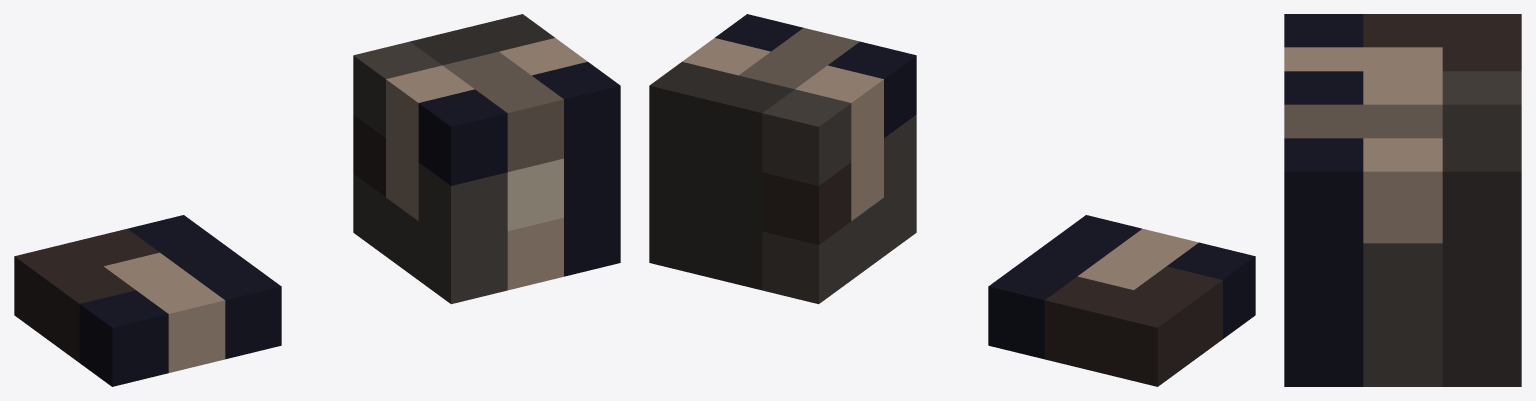
File: CMU3DWornAU14BeltHolsterPistolUPPFullSuitstorage.glb
3 views of the same model, side by side, from view 1: azimuth 30°, elevation 25°; view 2: azimuth 150°, elevation 25°; view 3: azimuth 270°, elevation 25° (orthographic). The views are drawn at different scales.
Visible parts, largest first — view 1: source volume 16, source volume 6, source volume 5, source volume 2, source volume 1, source volume 8, source volume 3, source volume 14, source volume 9, source volume 7, source volume 11, source volume 15 (+5 smaller); view 2: source volume 15, source volume 2, source volume 6, source volume 5, source volume 11, source volume 9, source volume 10, source volume 4, source volume 1, source volume 8, source volume 14, source volume 3 (+3 smaller); view 3: source volume 15, source volume 16, source volume 17, source volume 18, source volume 14, source volume 2, source volume 3, source volume 8, source volume 9, source volume 11, source volume 1, source volume 4.
Boxes of the visible parts, left/top/right/bottom form: source volume 16: left=532, top=62, right=620, bottom=276; source volume 6: left=353, top=174, right=507, bottom=304; source volume 5: left=128, top=215, right=281, bottom=359; source volume 2: left=14, top=242, right=135, bottom=362; source volume 1: left=79, top=290, right=168, bottom=386; source volume 8: left=418, top=89, right=507, bottom=185; source volume 3: left=104, top=252, right=225, bottom=372; source volume 14: left=442, top=51, right=563, bottom=171; source volume 9: left=386, top=65, right=474, bottom=220; source volume 7: left=418, top=162, right=507, bottom=244; source volume 11: left=353, top=41, right=441, bottom=137; source volume 15: left=410, top=14, right=554, bottom=65; source volume 15: left=649, top=62, right=794, bottom=290; source volume 2: left=1101, top=266, right=1222, bottom=386; source volume 6: left=762, top=174, right=916, bottom=304; source volume 5: left=988, top=215, right=1141, bottom=359; source volume 11: left=762, top=89, right=851, bottom=185; source volume 9: left=795, top=65, right=883, bottom=220; source volume 10: left=762, top=162, right=851, bottom=244; source volume 4: left=1044, top=276, right=1133, bottom=372; source volume 1: left=1167, top=242, right=1255, bottom=338; source volume 8: left=828, top=41, right=916, bottom=137; source volume 14: left=739, top=28, right=859, bottom=89; source volume 3: left=1077, top=228, right=1198, bottom=289; source volume 15: left=1442, top=104, right=1521, bottom=386; source volume 16: left=1284, top=138, right=1363, bottom=386; source volume 17: left=1363, top=243, right=1442, bottom=386; source volume 18: left=1363, top=138, right=1442, bottom=243; source volume 14: left=1284, top=104, right=1442, bottom=138; source volume 2: left=1363, top=14, right=1521, bottom=47; source volume 3: left=1284, top=47, right=1442, bottom=71; source volume 8: left=1284, top=71, right=1363, bottom=104; source volume 9: left=1363, top=71, right=1442, bottom=104; source volume 11: left=1442, top=71, right=1521, bottom=104; source volume 1: left=1284, top=14, right=1363, bottom=47; source volume 4: left=1442, top=47, right=1521, bottom=71.
Size of the model in its own units: 0.45 by 0.15 by 0.15.
